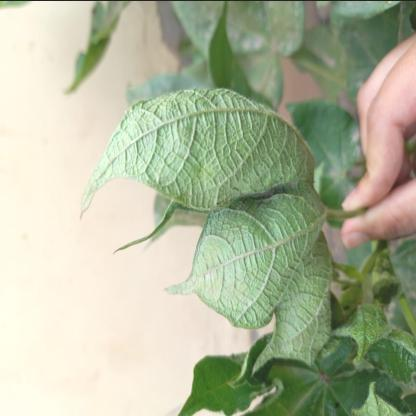curl_stage2: (145, 102, 281, 196), (207, 208, 273, 316), (277, 237, 319, 361), (270, 114, 312, 230), (113, 115, 145, 173), (359, 299, 389, 360)
healthy: (281, 363, 340, 416), (200, 367, 260, 409), (391, 347, 415, 381)
